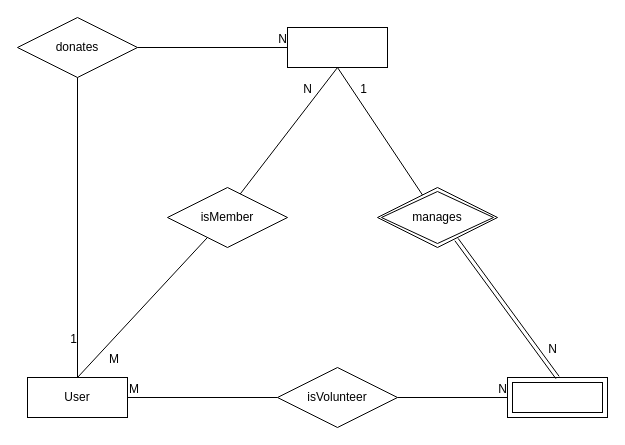
Some shapes in this 625 by 445 pixel diagram are drawn without their labels. Each missing label, with the centre of its shape:
Event: [557,397]
Organisation: [337,47]
